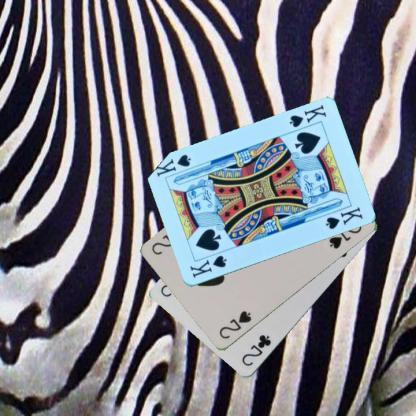2c: (239, 332, 273, 368)
2s: (216, 308, 253, 341)
Ks: (286, 102, 328, 130), (187, 253, 228, 280)
